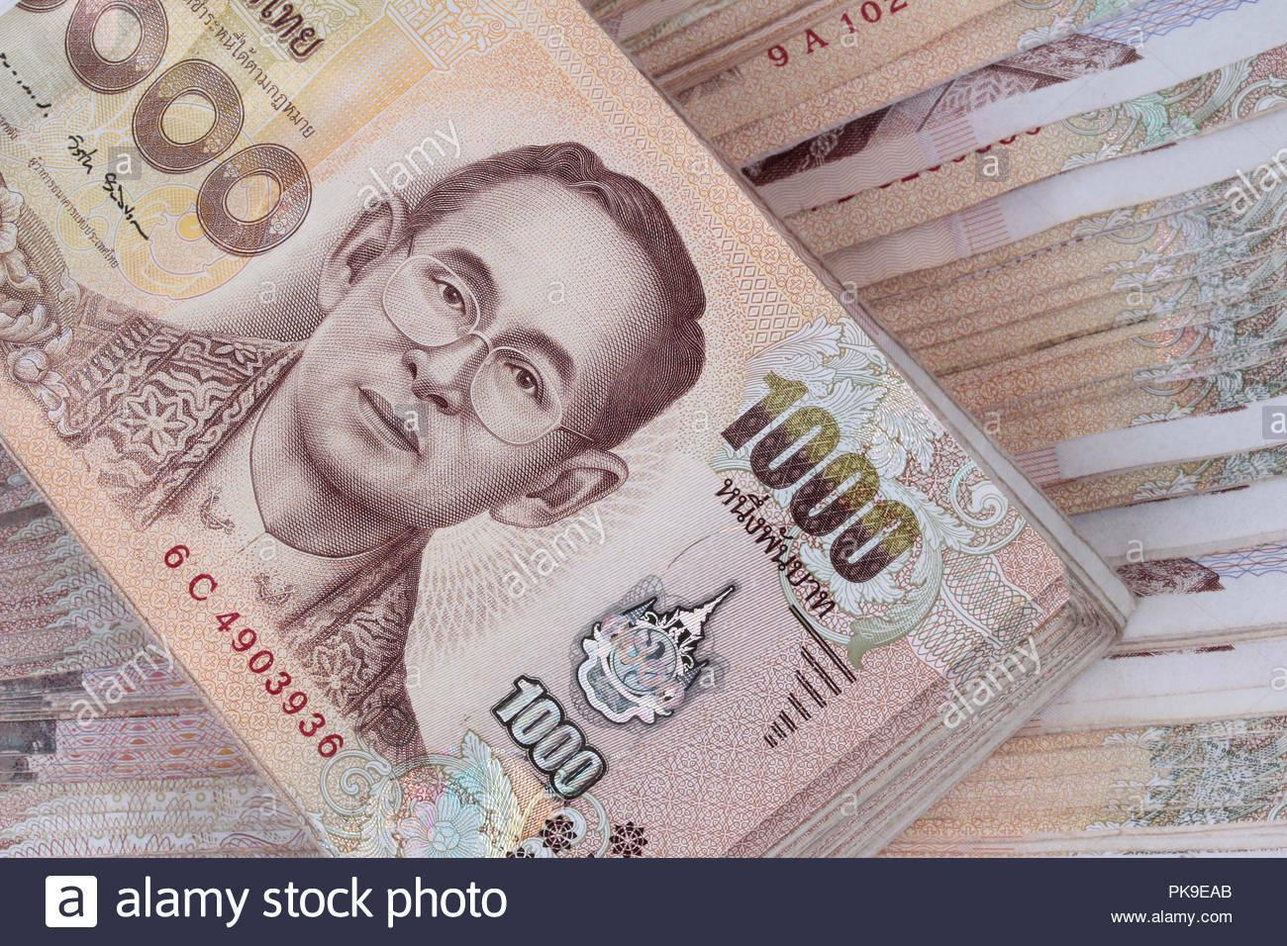1000BahtTai: (0, 0, 1057, 863)
